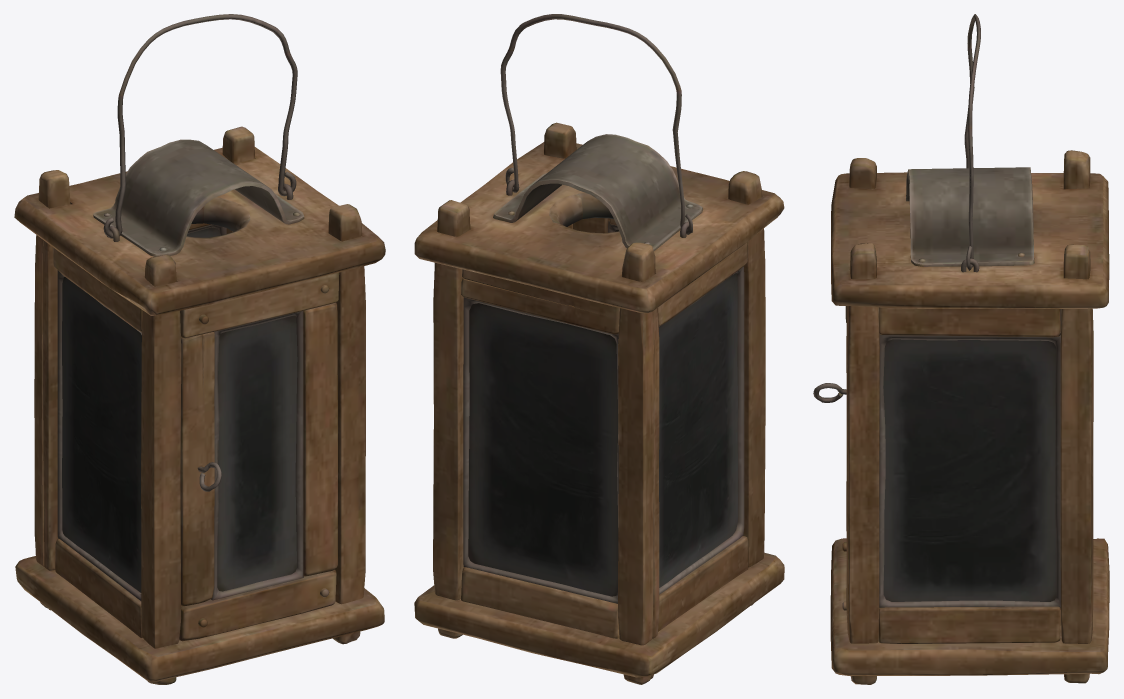
Rendered from wooden_lantern_01.glb.
3 views of the same model, side by side, from view 1: azimuth 30°, elevation 25°; view 2: azimuth 150°, elevation 25°; view 3: azimuth 270°, elevation 25° (orthographic).
Parts seen in each view (by area): view 1: wooden_lantern_01, wooden_lantern_01_door, wooden_lantern_01_handle; view 2: wooden_lantern_01, wooden_lantern_01_handle, wooden_lantern_01_door; view 3: wooden_lantern_01, wooden_lantern_01_handle, wooden_lantern_01_door.
Boxes of the visible parts, <box> form: wooden_lantern_01: <box>14,126,385,684</box>; wooden_lantern_01_door: <box>179,272,339,641</box>; wooden_lantern_01_handle: <box>103,14,297,238</box>; wooden_lantern_01: <box>414,122,784,684</box>; wooden_lantern_01_handle: <box>500,14,692,234</box>; wooden_lantern_01_door: <box>573,217,618,233</box>; wooden_lantern_01: <box>830,150,1109,684</box>; wooden_lantern_01_handle: <box>964,14,980,270</box>; wooden_lantern_01_door: <box>813,306,847,610</box>.
Size of the model in its own units: 0.2211 by 0.5301 by 0.2347.
2 materials, 2 textured.
